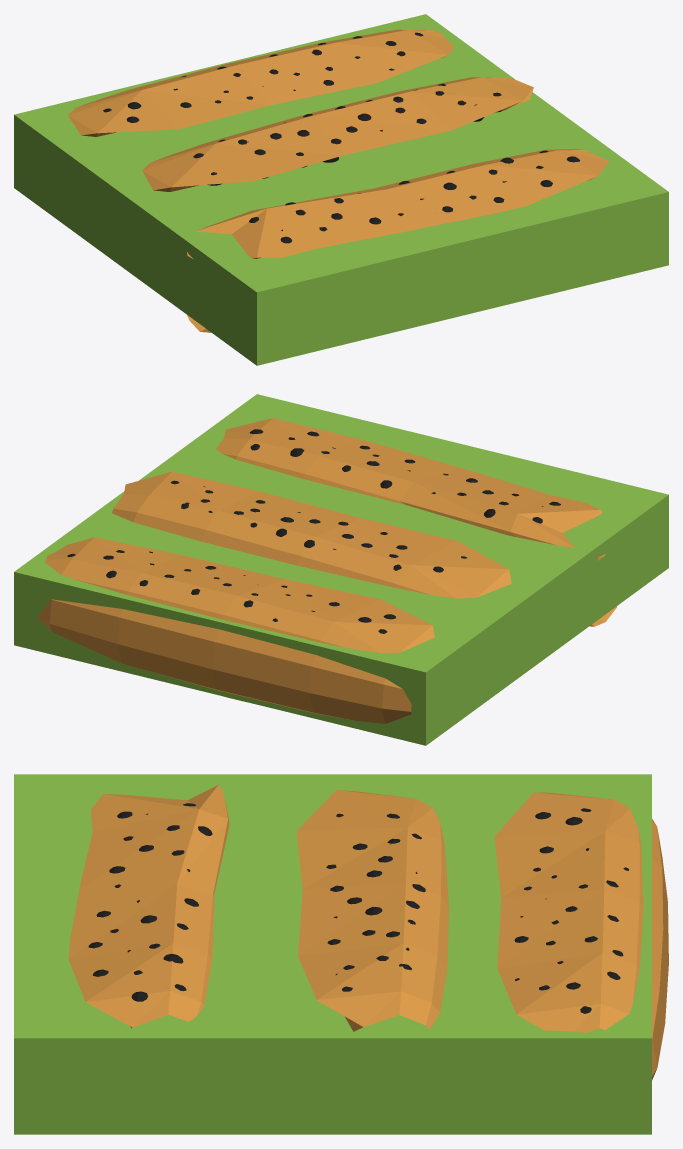
The picture shows the model from 3 angles, top to bottom: view 1: azimuth 30°, elevation 25°; view 2: azimuth 150°, elevation 25°; view 3: azimuth 270°, elevation 25°; orthographic projection. The views are drawn at different scales.
Visible parts, largest first — view 1: mesh_1537693769, mesh_795976520, mesh_1925001166, mesh_848005570; view 2: mesh_1537693769, mesh_1925001166, mesh_848005570, mesh_795976520; view 3: mesh_1537693769, mesh_1925001166, mesh_848005570, mesh_795976520.
Boxes of the visible parts, left/top/right/bottom form: mesh_1537693769: left=14, top=14, right=668, bottom=365; mesh_795976520: left=185, top=149, right=609, bottom=332; mesh_1925001166: left=68, top=29, right=454, bottom=136; mesh_848005570: left=142, top=77, right=533, bottom=191; mesh_1537693769: left=14, top=394, right=668, bottom=745; mesh_1925001166: left=37, top=537, right=434, bottom=723; mesh_848005570: left=112, top=471, right=511, bottom=598; mesh_795976520: left=216, top=418, right=616, bottom=626; mesh_1537693769: left=14, top=774, right=651, bottom=1134; mesh_1925001166: left=494, top=792, right=668, bottom=1079; mesh_848005570: left=296, top=790, right=448, bottom=1031; mesh_795976520: left=68, top=784, right=229, bottom=1028.
Bounding box in the file's own units: 47.19 × 12.05 × 49.27.
